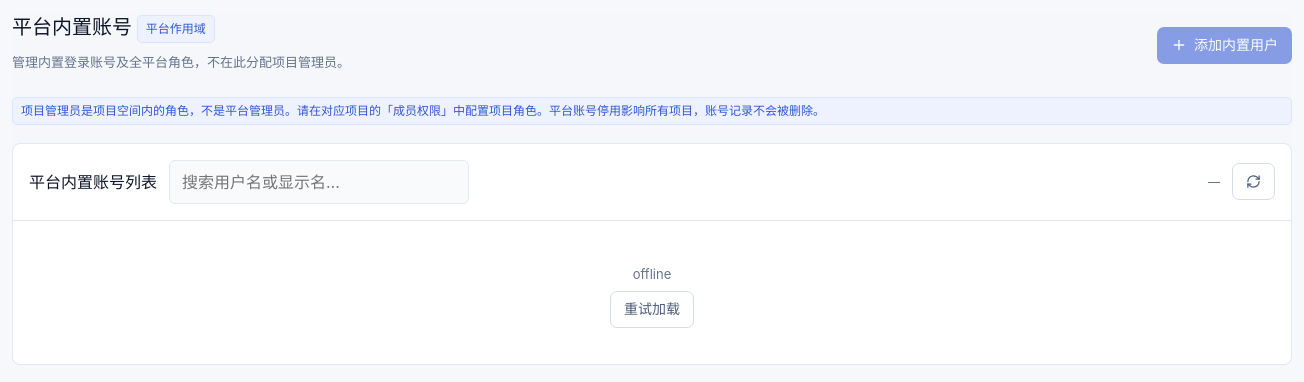
retries load errors without presenting an empty account directory
Expected: the message shows "offline", [633,266,671,282]
Click the button "重试加载". click: (652, 309)
box: [610,291,694,328]
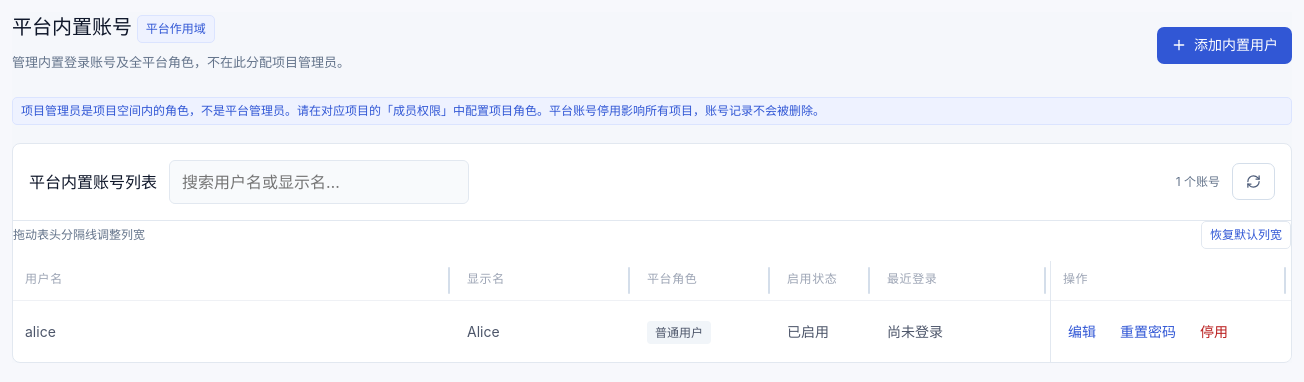
Expected: the text "Alice" is shown, [455,300,635,362]
